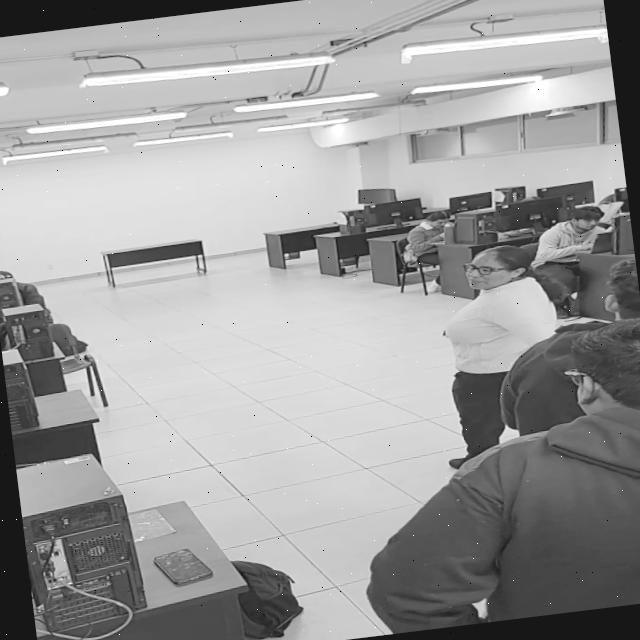Persona: (423, 239, 580, 468)
